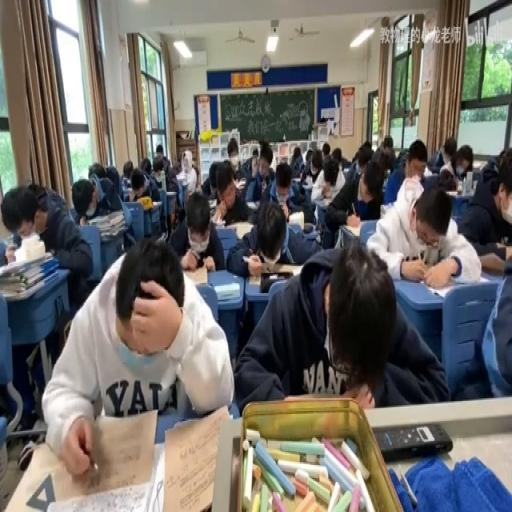calculator: (422, 280, 468, 299), (226, 219, 254, 240), (181, 263, 207, 285), (213, 282, 241, 300), (286, 210, 304, 230), (175, 170, 188, 184), (3, 233, 17, 246), (380, 200, 393, 214), (312, 195, 328, 206), (302, 220, 316, 232), (248, 272, 262, 284), (210, 218, 226, 228), (233, 176, 246, 188), (446, 189, 462, 198), (150, 199, 162, 209), (246, 201, 259, 209), (206, 199, 216, 209), (290, 176, 300, 184), (342, 165, 350, 175)
paper: (42, 237, 228, 478), (233, 240, 442, 414), (366, 178, 480, 283), (2, 181, 92, 314), (226, 196, 319, 276), (170, 191, 224, 273), (481, 256, 512, 397), (323, 155, 369, 242), (387, 138, 429, 202), (75, 171, 123, 222), (246, 139, 276, 199), (468, 237, 510, 269), (152, 151, 180, 196), (222, 135, 245, 179), (432, 135, 457, 174), (198, 161, 218, 199), (301, 145, 321, 182), (451, 147, 472, 179), (478, 154, 500, 184), (27, 180, 48, 204), (437, 168, 457, 192), (290, 145, 304, 178), (86, 160, 106, 178), (180, 150, 193, 174), (138, 155, 152, 176), (323, 166, 337, 186), (217, 181, 230, 202), (190, 162, 200, 189), (330, 146, 342, 166), (380, 135, 394, 152), (122, 159, 133, 178), (497, 148, 507, 166), (422, 164, 437, 176), (360, 141, 370, 158), (322, 141, 330, 161), (250, 150, 258, 170), (152, 163, 162, 175), (120, 176, 130, 188), (155, 142, 163, 156), (352, 150, 359, 164), (300, 168, 306, 182)
person: (374, 422, 451, 461), (260, 270, 294, 293)
